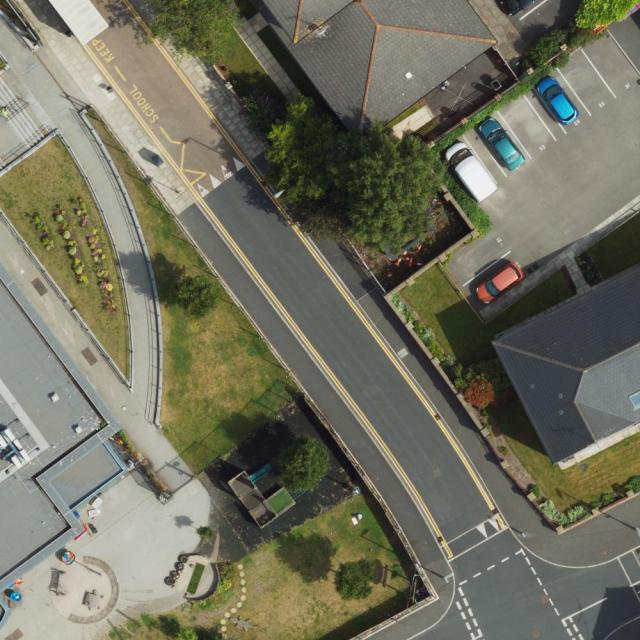roof: (0, 255, 127, 592), (258, 0, 499, 137), (493, 258, 640, 461)
skylight: (631, 389, 640, 411), (402, 68, 416, 81)
